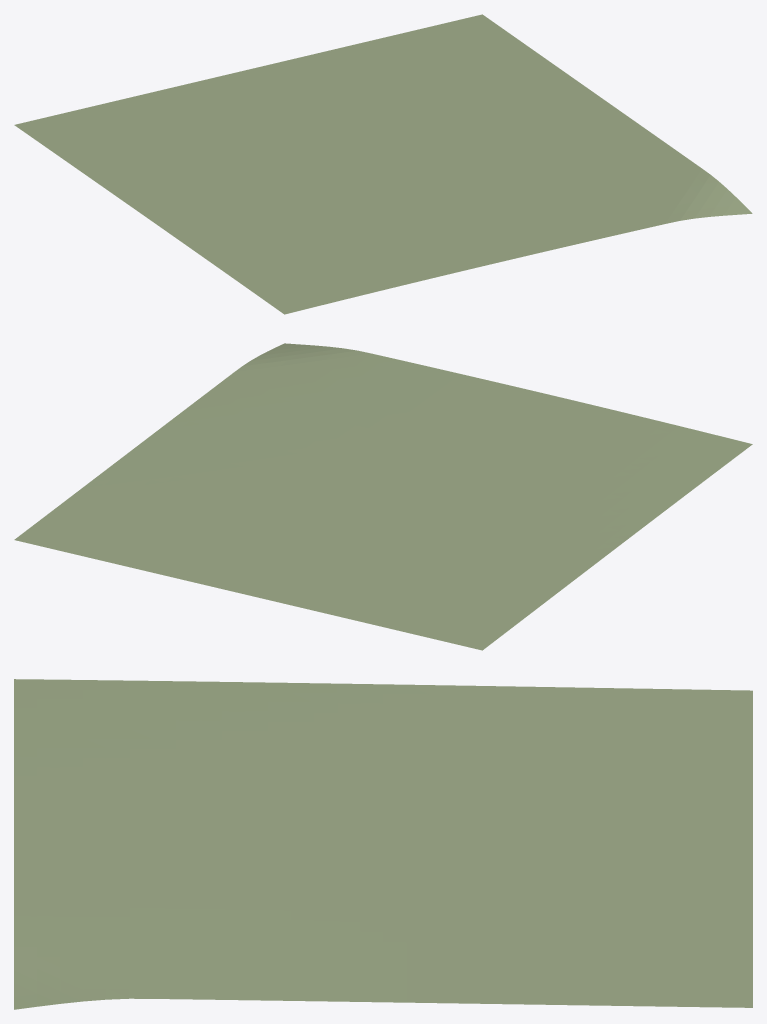
Rendered from gardens-4-4.glb.
3 views of the same model, one above another, from view 1: azimuth 30°, elevation 25°; view 2: azimuth 150°, elevation 25°; view 3: azimuth 270°, elevation 25° (orthographic). The views are drawn at different scales.
Parts seen in each view (by area): view 1: gardens-4-4; view 2: gardens-4-4; view 3: gardens-4-4.
Boxes of the visible parts, left/top/right/bottom form: gardens-4-4: left=14, top=14, right=752, bottom=314; gardens-4-4: left=14, top=343, right=752, bottom=650; gardens-4-4: left=14, top=679, right=752, bottom=1009.
Bounding box in the file's own units: 256 × 7.18 × 256.
